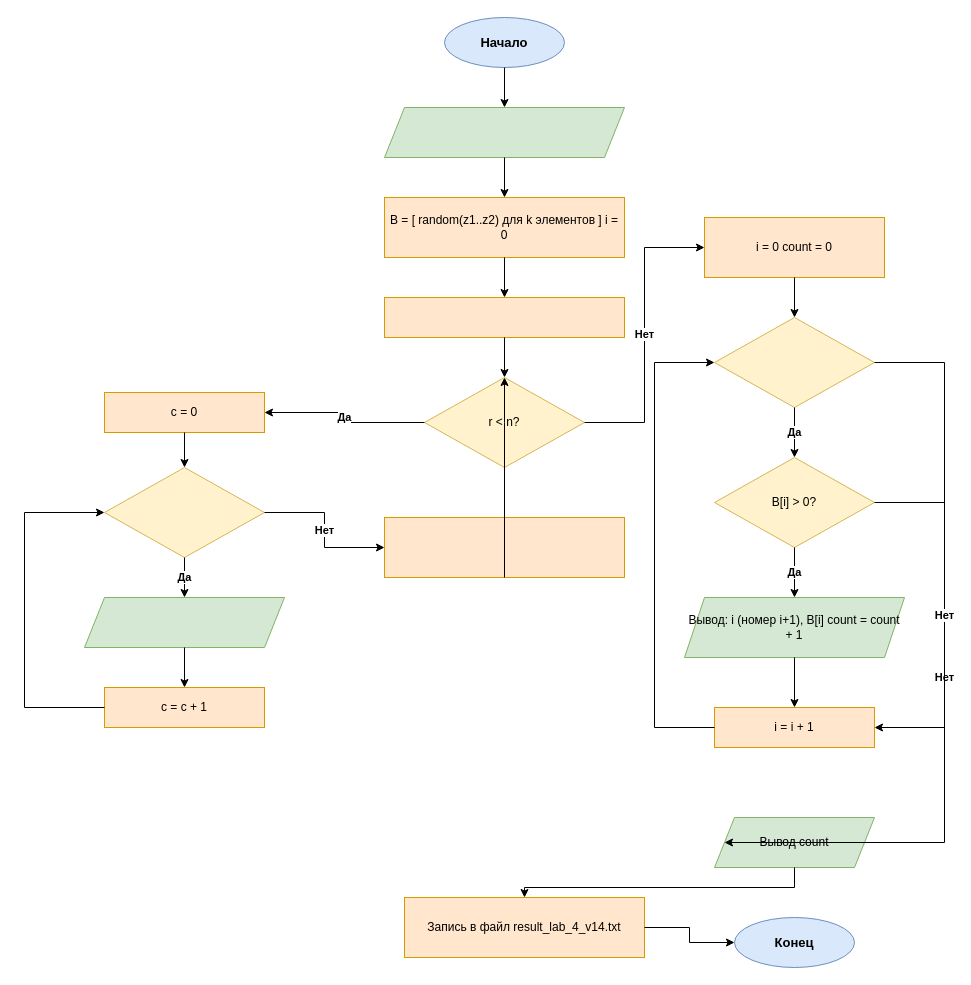
Image size: 971x985. Some labels were removed from this diagram. The centre of each missing label's shape, as x and y in pixels:
"c < m?" belongs at point (184, 512).
"i < k?" belongs at point (794, 362).
"r = 0" belongs at point (504, 317).
"r = r + 1 переход на новую строку" belongs at point (504, 547).
"Ввод k, z1, z2, n, m" belongs at point (504, 132).
"Вывод B[r·m + c]" belongs at point (184, 622).
